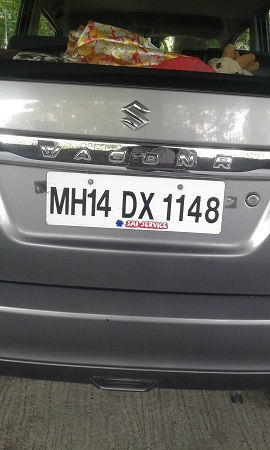licenseplate: (44, 167, 224, 238)
